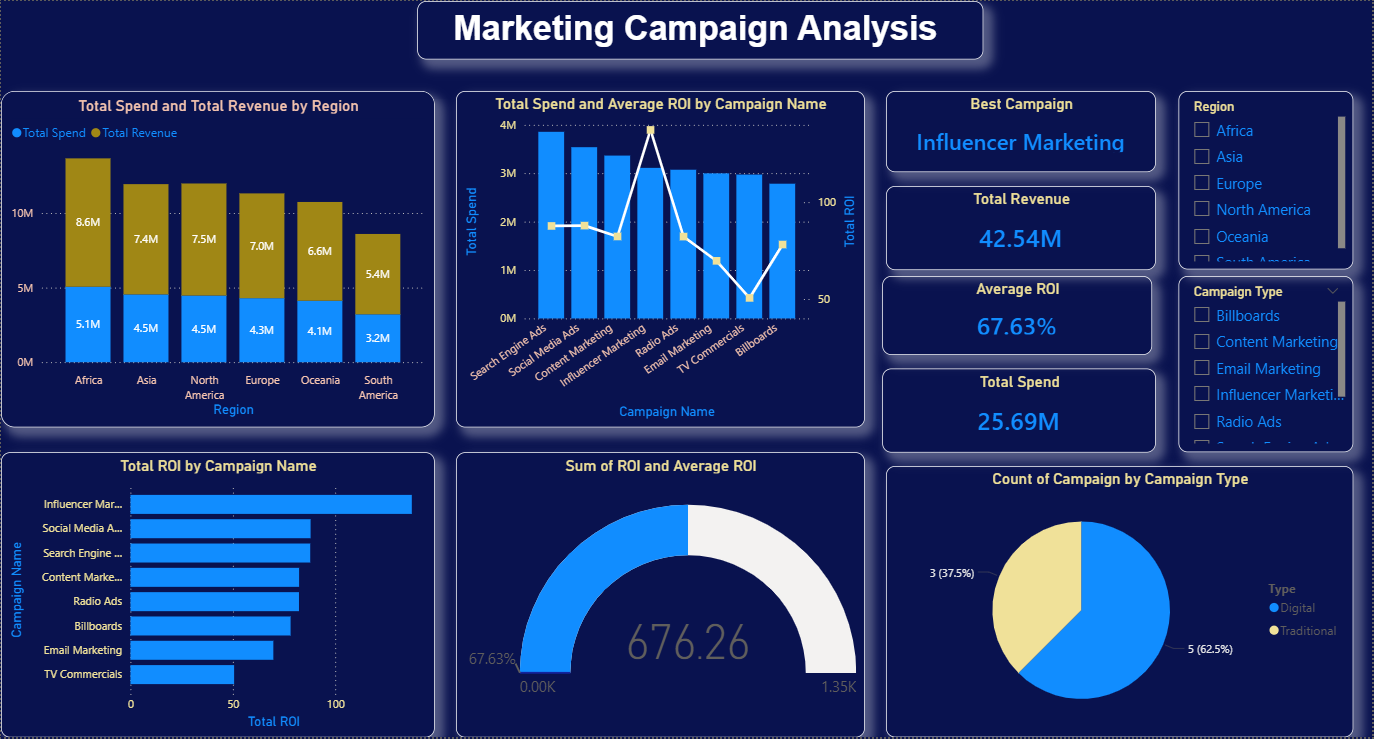

What the dashboard file says about the page in this screenshot:
{"tool":"powerbi","page":{"name":"Page 1","canvas":[1500,805],"ordinal":0},"visuals":[{"type":"columnChart","fields":{"Y":["marketing campaign performance.Total Spend","marketing campaign performance.Total Revenue"],"Category":["marketing campaign performance.Region"]},"box":[0,98.4,474.4,367.8],"z":0},{"type":"lineClusteredColumnComboChart","title":"Total Spend and Average ROI by Campaign Name","fields":{"Category":["marketing campaign performance.Campaign_Name"],"Y":["marketing campaign performance.Total Spend"],"Y2":["marketing campaign performance.Total ROI"]},"box":[497.7,98.4,447.1,367.8],"z":1000},{"type":"barChart","title":"Total ROI by Campaign Name","fields":{"Y":["marketing campaign performance.Total ROI"],"Category":["marketing campaign performance.Campaign_Name"]},"box":[0,493.6,474.4,311.7],"z":2000},{"type":"pieChart","title":"Count of Campaign by Campaign Type","fields":{"Y":["CountNonNull(marketing campaign details.Campaign_Name)"],"Category":["marketing campaign details.Type"]},"box":[968,508.6,511.3,296.7],"z":3000},{"type":"cardVisual","title":"Total Revenue","fields":{"Data":["marketing campaign performance.Total Revenue"]},"box":[968,202.3,295.3,91.6],"z":4000},{"type":"cardVisual","title":"Best Campaign","fields":{"Data":["marketing campaign performance.Best Campaign "]},"box":[968,98.4,295.3,88.9],"z":5000},{"type":"cardVisual","title":"Average ROI","fields":{"Data":["marketing campaign performance.Average ROI"]},"box":[963.9,300.8,295.3,86.1],"z":6000},{"type":"cardVisual","title":"Total Spend","fields":{"Data":["marketing campaign performance.Total Spend"]},"box":[963.9,402,299.4,91.6],"z":7000},{"type":"slicer","fields":{"Values":["marketing campaign performance.Region"]},"box":[1287.9,98.4,191.4,195.5],"z":8000},{"type":"slicer","fields":{"Values":["marketing campaign performance.Campaign_Name"]},"box":[1287.9,300.8,191.4,192.8],"z":9000},{"type":"gauge","fields":{"Y":["Sum(marketing campaign performance.ROI)"],"TargetValue":["marketing campaign performance.Average ROI"]},"box":[497.7,493.6,447.1,311.7],"z":10000},{"type":"textbox","box":[455.3,0,619.3,64.3],"z":11000}]}

Visuals, with their boxes in screenshot pixels (x1, y1, x2, y2), scaled from the page's 1500x805 canvas onto the 1374x739 screenshot:
columnChart - marketing campaign performance.Total Spend x marketing campaign performance.Total Revenue: 0 90 435 428
"Total Spend and Average ROI by Campaign Name" lineClusteredColumnComboChart: 456 90 865 428
"Total ROI by Campaign Name" barChart: 0 453 435 738
"Count of Campaign by Campaign Type" pieChart: 887 467 1355 738
"Total Revenue" cardVisual: 887 186 1157 270
"Best Campaign" cardVisual: 887 90 1157 172
"Average ROI" cardVisual: 883 276 1153 355
"Total Spend" cardVisual: 883 369 1157 453
slicer - marketing campaign performance.Region: 1180 90 1355 270
slicer - marketing campaign performance.Campaign_Name: 1180 276 1355 453
gauge - Sum(marketing campaign performance.ROI) x marketing campaign performance.Average ROI: 456 453 865 738
textbox: 417 0 984 59
